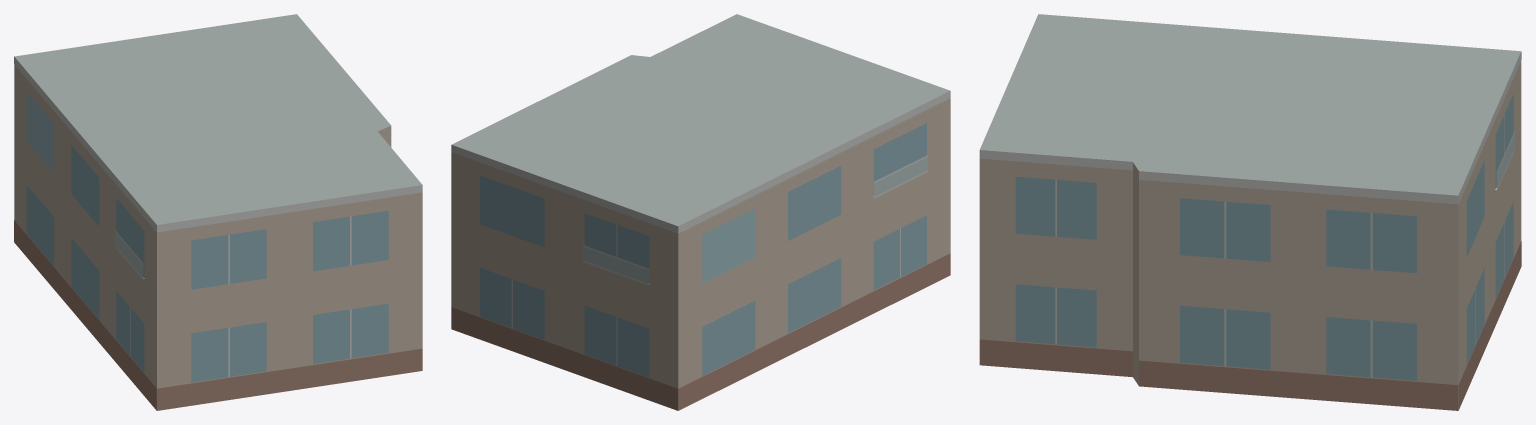
The model's file is survey-upis-32907736.glb.
The picture shows the model from 3 angles, left to right: view 1: azimuth 30°, elevation 25°; view 2: azimuth 150°, elevation 25°; view 3: azimuth 270°, elevation 25°; orthographic projection. The views are drawn at different scales.
Visible parts, largest first — view 1: survey-upis-32907736.tmp; view 2: survey-upis-32907736.tmp; view 3: survey-upis-32907736.tmp.
Part boxes in pixels (bbox=[...]): survey-upis-32907736.tmp: bbox=[14, 14, 422, 410]; survey-upis-32907736.tmp: bbox=[451, 14, 950, 410]; survey-upis-32907736.tmp: bbox=[979, 14, 1521, 410].
Bounding box in the file's own units: 11.05 × 6.1 × 13.93.
